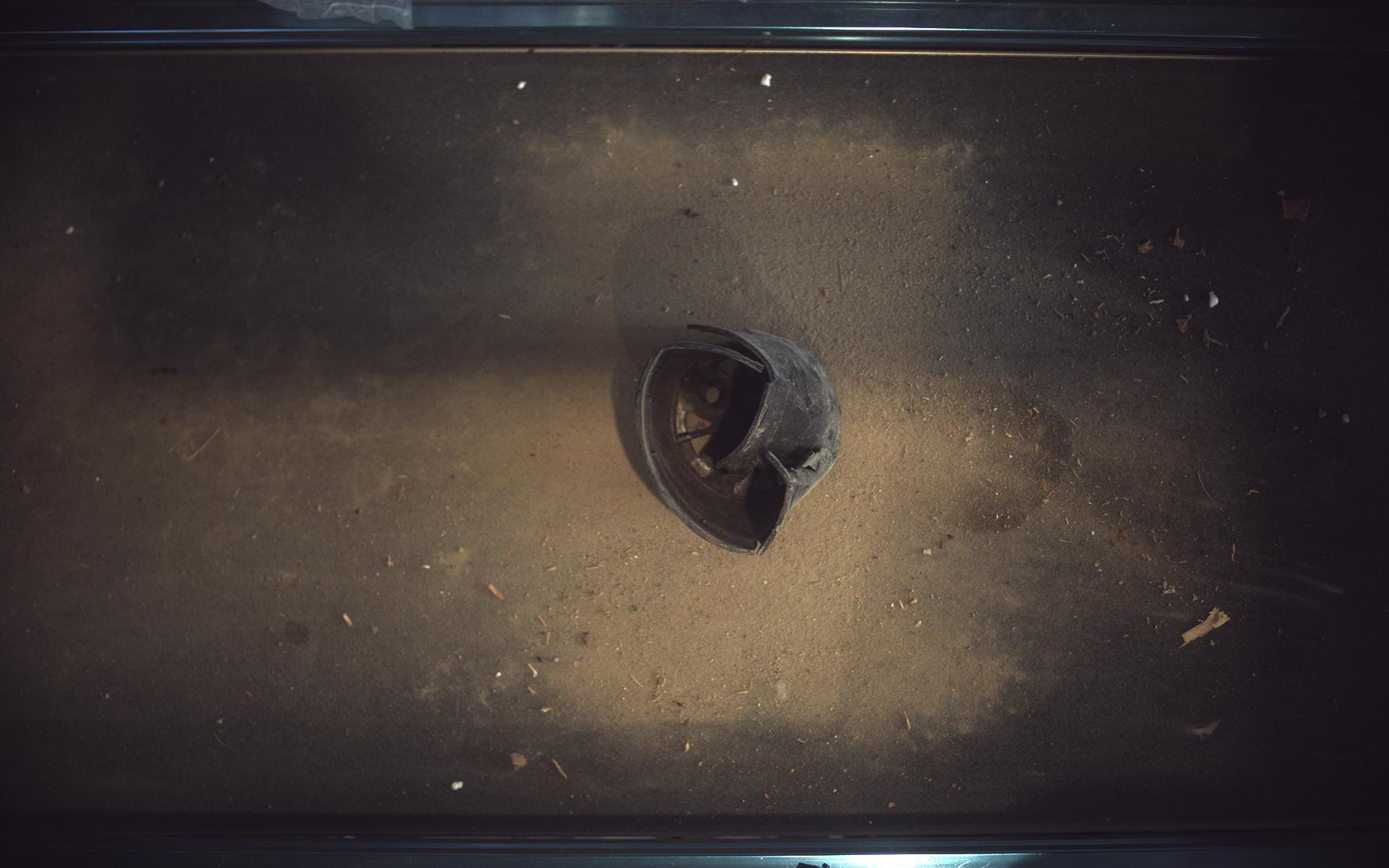general_w: (637, 325, 842, 554)
